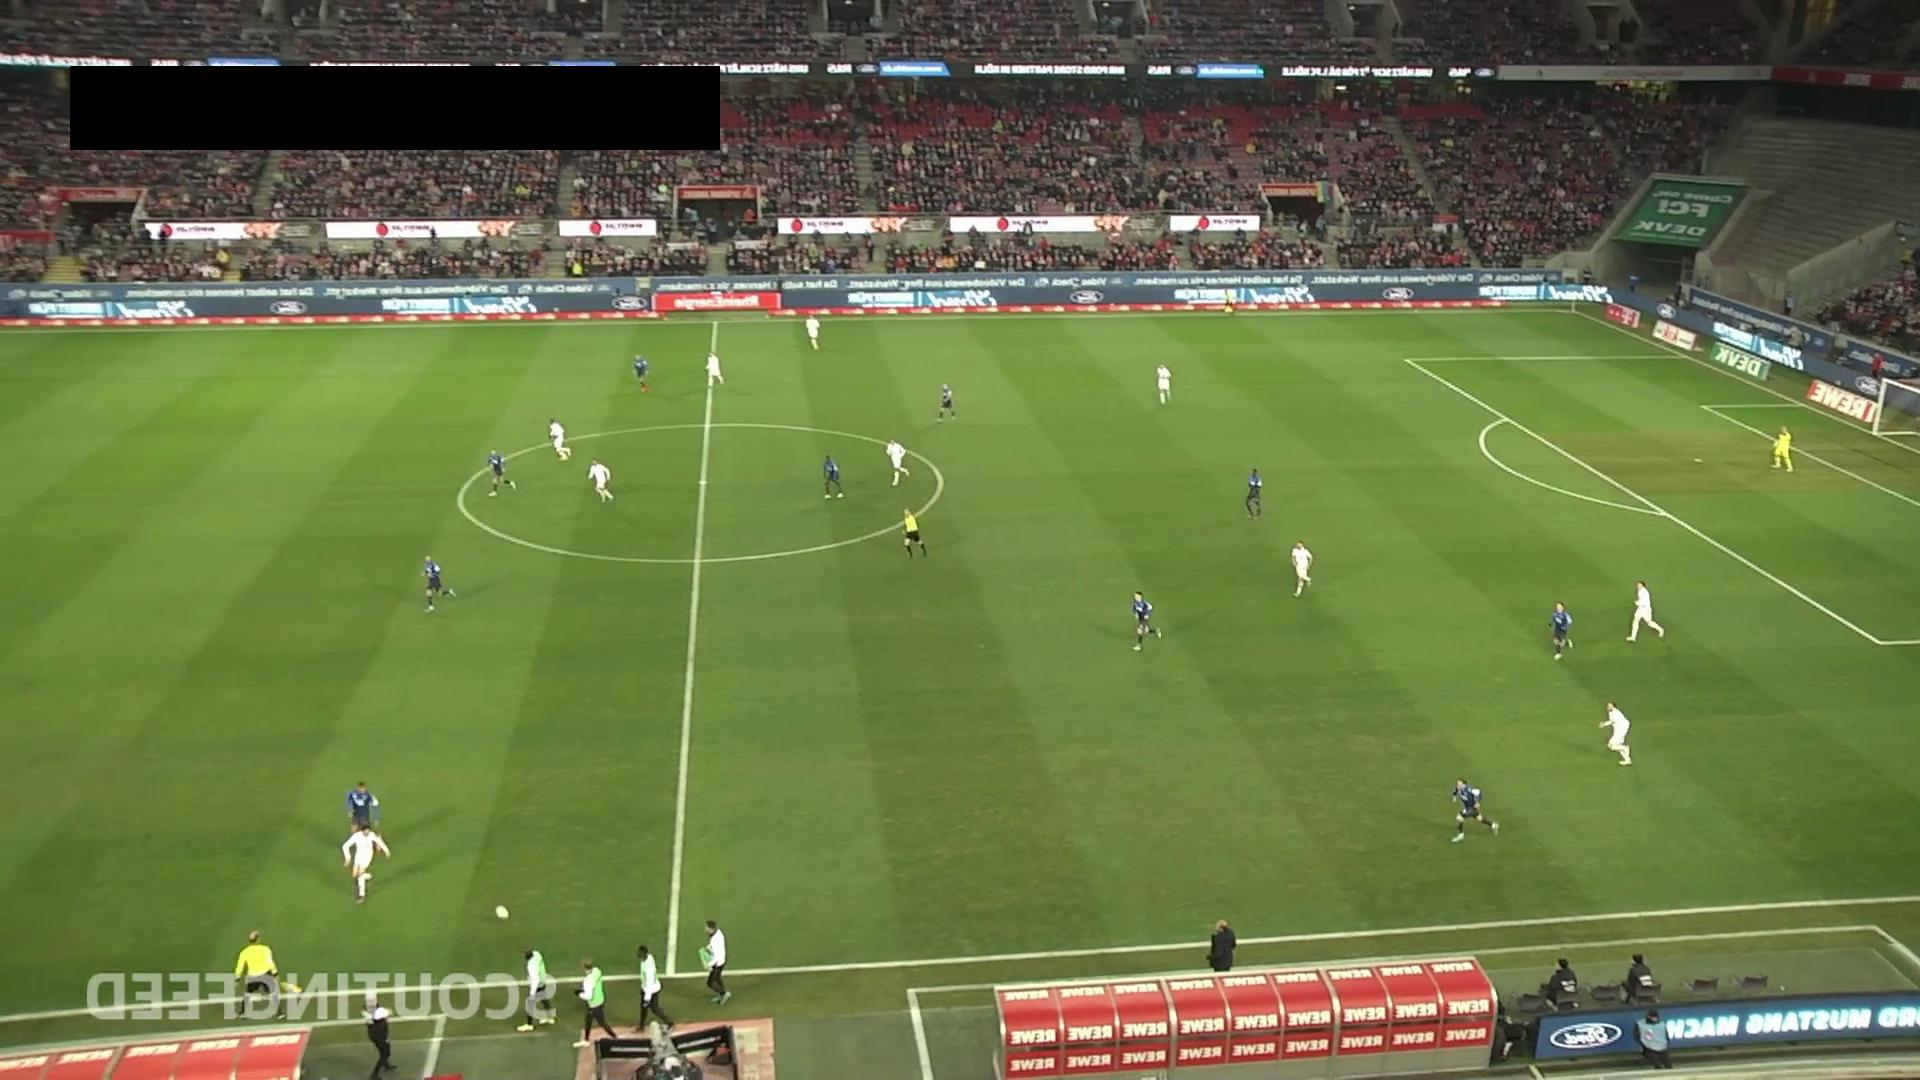ball: (495, 905, 509, 919)
goalkeeper: (1771, 425, 1794, 471)
player: (341, 820, 391, 905), (1449, 776, 1500, 843), (346, 780, 385, 857), (1625, 580, 1665, 642), (1596, 701, 1633, 765), (421, 554, 458, 615), (1130, 590, 1161, 652), (486, 448, 517, 497), (1548, 602, 1573, 660), (1290, 540, 1314, 597), (885, 438, 910, 487), (587, 457, 614, 502), (822, 453, 845, 499), (547, 417, 571, 461), (1245, 467, 1263, 518), (937, 382, 957, 420), (705, 350, 725, 387), (632, 354, 650, 393), (1156, 362, 1172, 405), (805, 314, 821, 351)
referee: (233, 930, 305, 1024), (902, 506, 928, 559), (1221, 286, 1240, 317)
